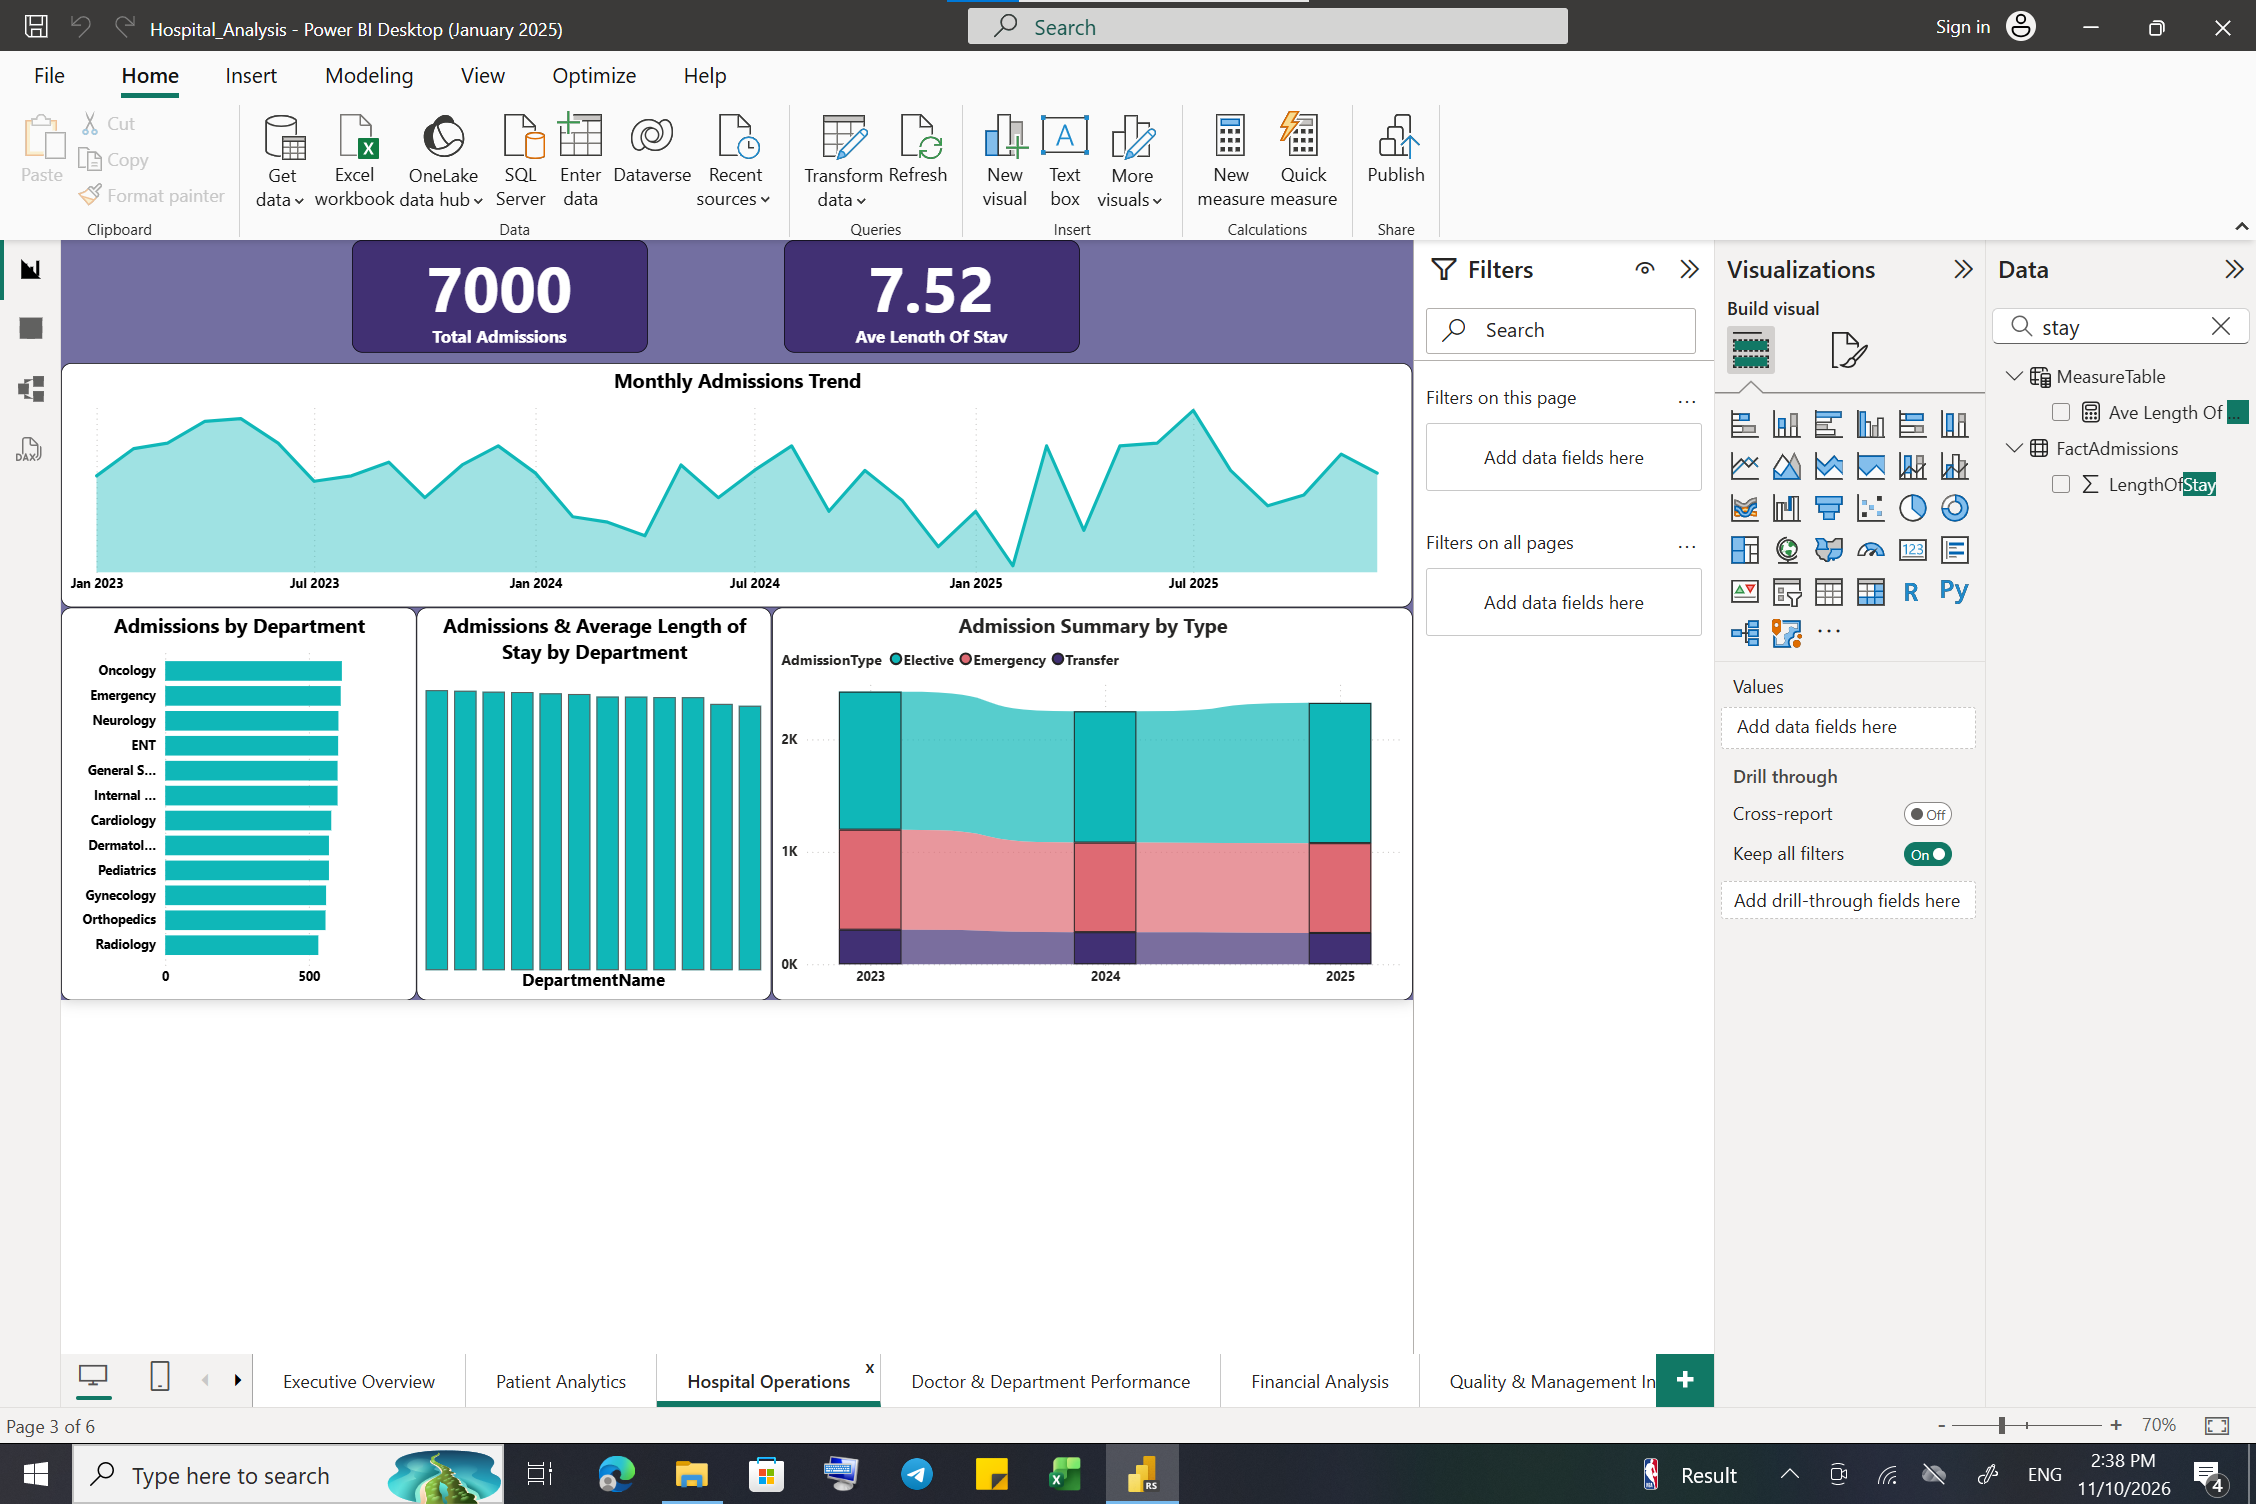

This screenshot's page, from the dashboard's own definition file:
{"tool":"powerbi","page":{"name":"Hospital Operations","canvas":[1280,720],"ordinal":2},"visuals":[{"type":"card","fields":{"Values":["MeasureTable.Total Admissions"]},"box":[275.5,0,279.8,106.5],"z":0},{"type":"card","fields":{"Values":["MeasureTable.Ave Length Of Stay"]},"box":[684.5,0,279.8,106.5],"z":1000},{"type":"barChart","title":"Admissions by Department","fields":{"Category":["DimDepartment.DepartmentName"],"Y":["MeasureTable.Total Admissions"]},"box":[0,347.9,336.6,372.1],"z":2000},{"type":"lineChart","title":"Monthly Admissions Trend","fields":{"Y":["MeasureTable.Total Admissions"],"Category":["DimDate.YearMonth"]},"box":[0,116.5,1279.5,231.5],"z":3000},{"type":"clusteredColumnChart","title":"Admissions & Average Length of Stay by Department","fields":{"Category":["DimDepartment.DepartmentName"],"Y":["MeasureTable.Ave Length Of Stay"]},"box":[336.6,347.9,336,372.1],"z":4000},{"type":"ribbonChart","title":"Admission Summary by Type","fields":{"Y":["MeasureTable.Total Admissions"],"Category":["DimDate.Year"],"Series":["FactAdmissions.AdmissionType"]},"box":[673.1,347.9,606.4,372.1],"z":5000}]}

Visuals, with their boxes on the page's 1280x720 design canvas (x1, y1, x2, y2). These are canvas units, not pixel positions in the 2256x1504 screenshot, which may show the page scaled, cropped or inside an application window:
card - MeasureTable.Total Admissions: <bbox>276, 0, 555, 106</bbox>
card - MeasureTable.Ave Length Of Stay: <bbox>684, 0, 964, 106</bbox>
"Admissions by Department" barChart: <bbox>0, 348, 337, 720</bbox>
"Monthly Admissions Trend" lineChart: <bbox>0, 116, 1280, 348</bbox>
"Admissions & Average Length of Stay by Department" clusteredColumnChart: <bbox>337, 348, 673, 720</bbox>
"Admission Summary by Type" ribbonChart: <bbox>673, 348, 1280, 720</bbox>
